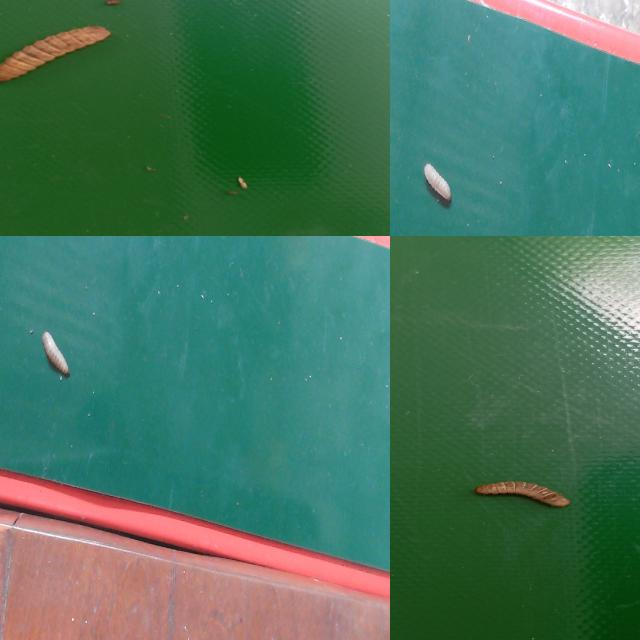Maggot: (0, 26, 111, 85), (474, 480, 570, 510), (41, 333, 71, 381), (422, 164, 453, 209)
